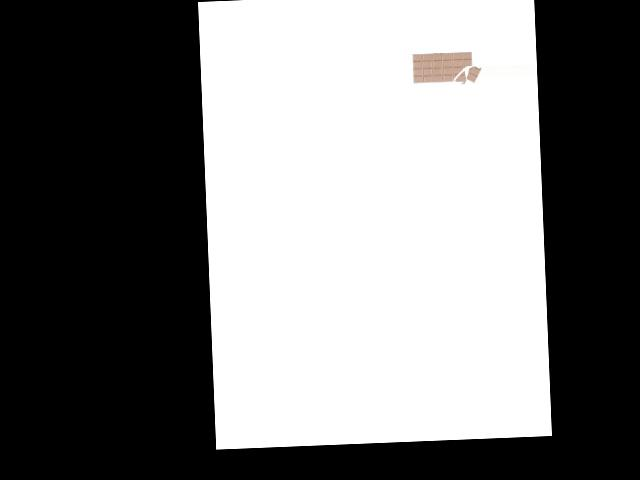chocolate: (411, 46, 482, 92)
